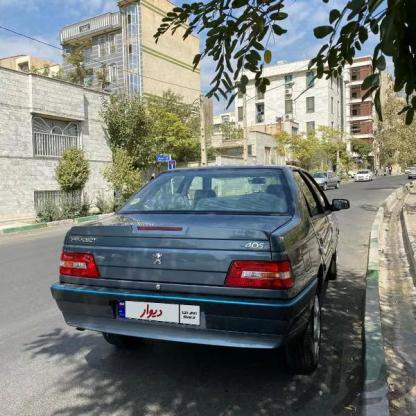Car: (56, 163, 344, 372), (304, 170, 339, 194), (353, 165, 374, 185)
